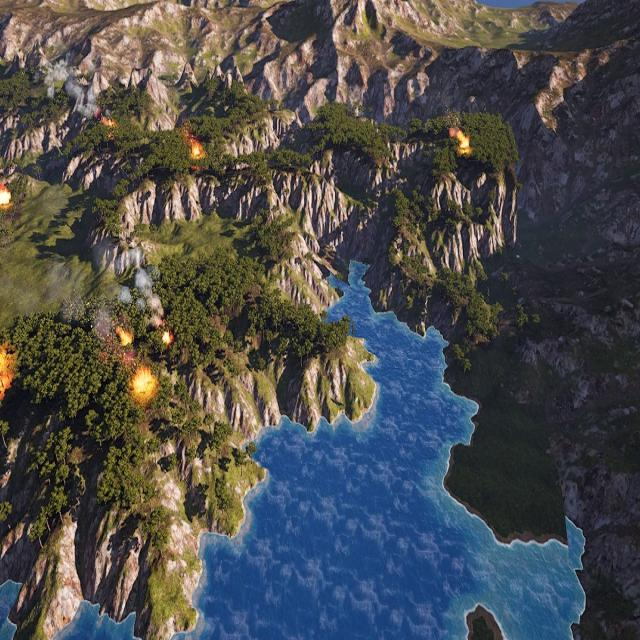fire: (0, 336, 15, 402), (133, 373, 156, 397), (190, 136, 205, 158), (100, 113, 115, 130), (162, 331, 174, 346), (1, 187, 10, 206)
smoke: (59, 240, 163, 336), (44, 58, 102, 121), (450, 126, 472, 155)
